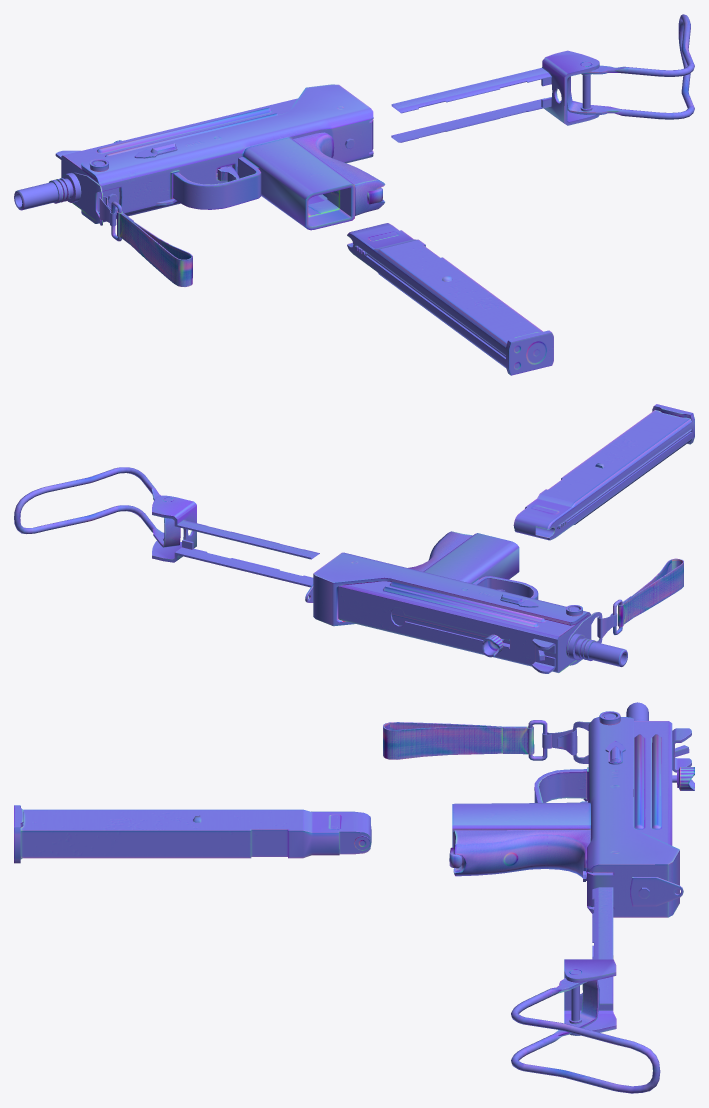
The model's file is uploads_files_831115_SM_Mac-11_01.FBX.
3 views of the same model, one above another, from view 1: azimuth 30°, elevation 25°; view 2: azimuth 150°, elevation 25°; view 3: azimuth 270°, elevation 25° (orthographic). The views are drawn at different scales.
Parts seen in each view (by area): view 1: Object108, Object109, Object111, Object377, Object110; view 2: Object108, Object109, Object111, Object110, Object377, Object112, Object113; view 3: Object108, Object109, Object377, Object110, Object111.
Boxes of the visible parts, <box> form: Object108: <box>14,84,385,230</box>; Object109: <box>347,223,553,375</box>; Object111: <box>391,50,599,142</box>; Object377: <box>99,196,192,286</box>; Object110: <box>567,14,694,119</box>; Object108: <box>305,531,627,673</box>; Object109: <box>513,404,694,540</box>; Object111: <box>152,495,319,587</box>; Object110: <box>14,467,180,547</box>; Object377: <box>597,558,683,638</box>; Object112: <box>445,625,504,657</box>; Object113: <box>391,607,445,630</box>; Object108: <box>449,702,691,917</box>; Object109: <box>14,805,371,863</box>; Object377: <box>383,720,577,760</box>; Object110: <box>511,978,660,1093</box>; Object111: <box>564,887,616,1035</box>.
Size of the model in its own units: 81.89 by 6.57 by 65.39.
